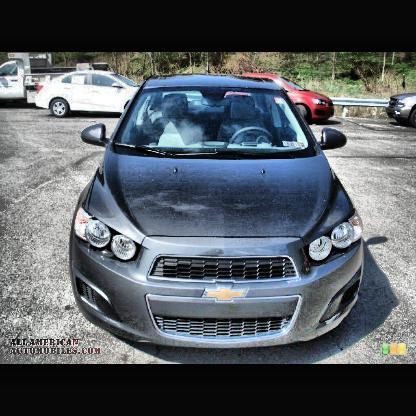Chevrolet Sonic Sedan 2012: (68, 80, 364, 364)
